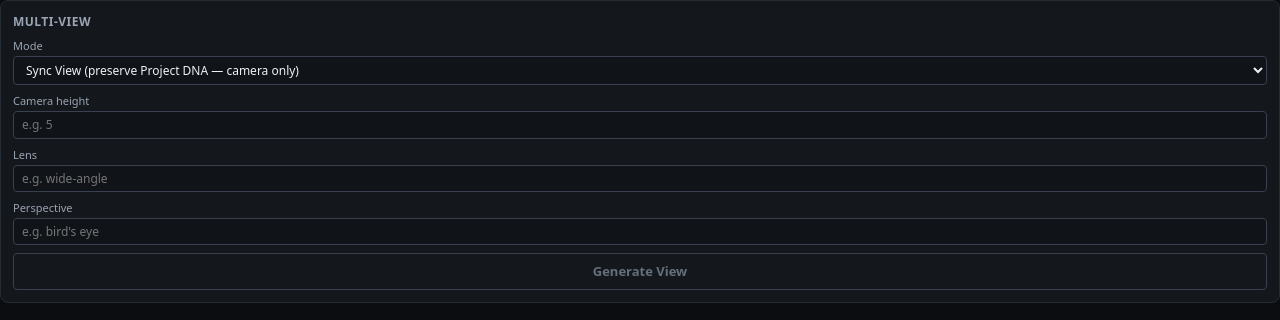
Test case: MultiViewPanel — BUILD 15 Multi-View / Sync / Creative View › renders the real form once a prompt is compiled, disabled until a camera field (or, in Creative mode, style) is filled
Check: the button "Generate View" is disabled, box [13,253,1267,290]
Step 1. Type "bird's eye" into the field labelled "Perspective" → (640,232), box [13,218,1267,245]
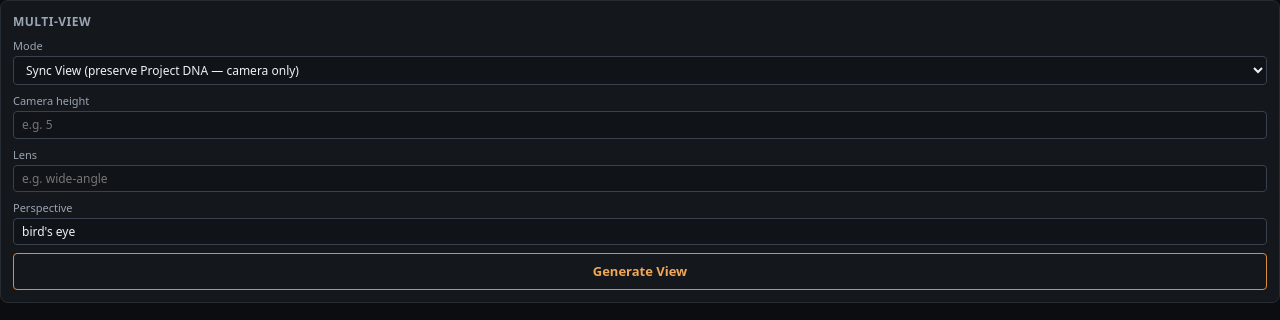
Check: the button "Generate View" is enabled, box [13,253,1267,290]
